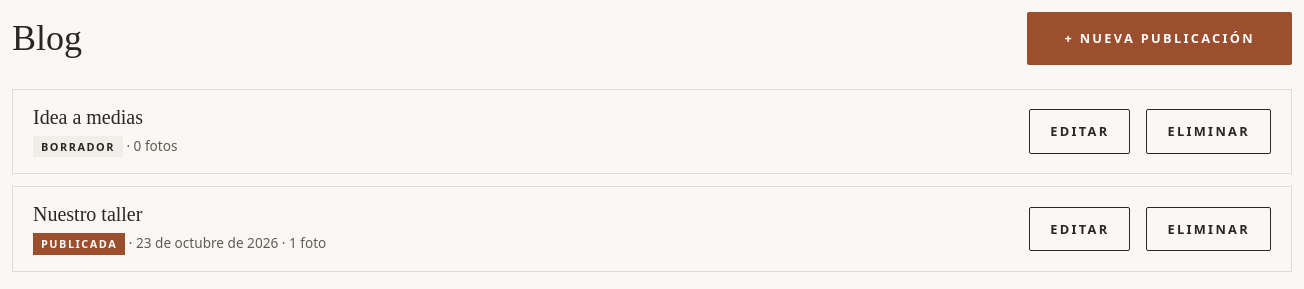
GestorPublicaciones › elimina una publicación después de confirmar
The image size is (1304, 289).
Click the button named "Eliminar \"Idea a medias\"" at (1209, 132), box [1146,109,1271,154]
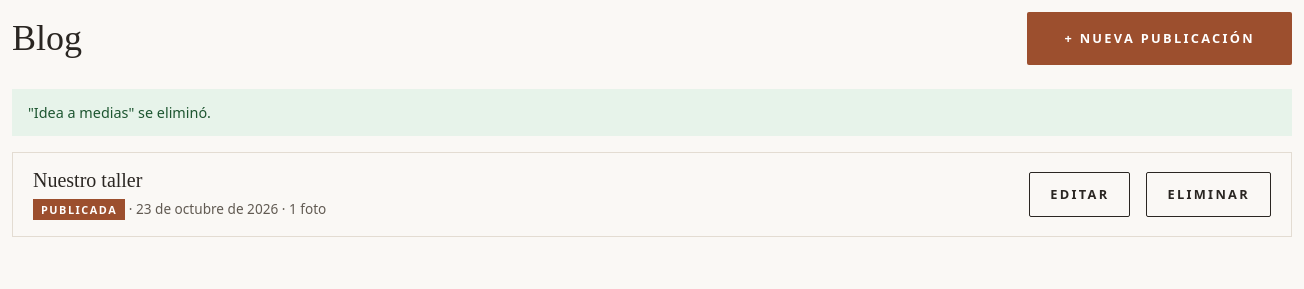
Now the message reads "\"Idea a medias\" se eliminó.", box [28,103,211,122]
Now the number of list items is 1, box [12,152,1292,237]
